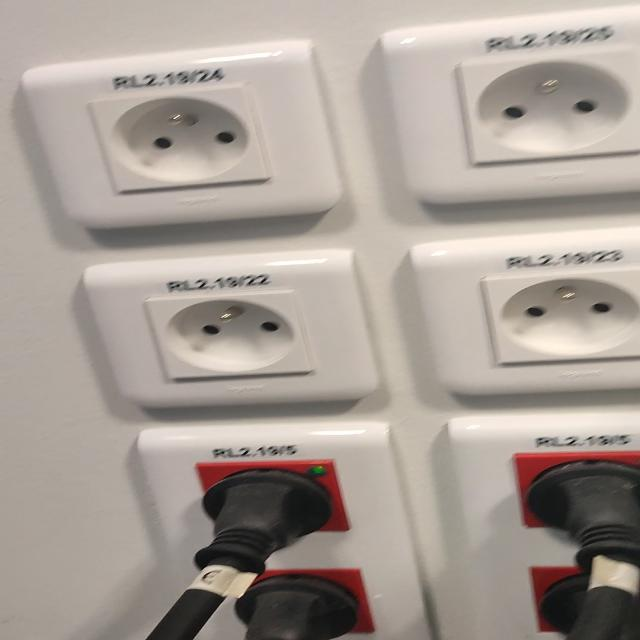house plug: (457, 44, 640, 166), (88, 85, 271, 193), (480, 266, 640, 365), (150, 288, 314, 380)
